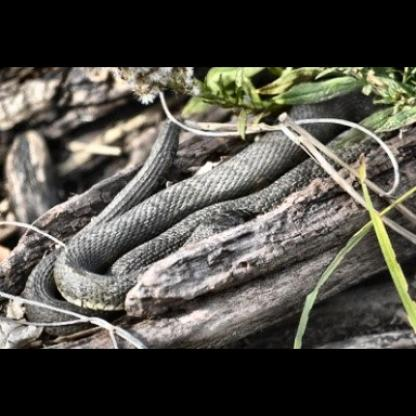Snake: (12, 99, 410, 335)
